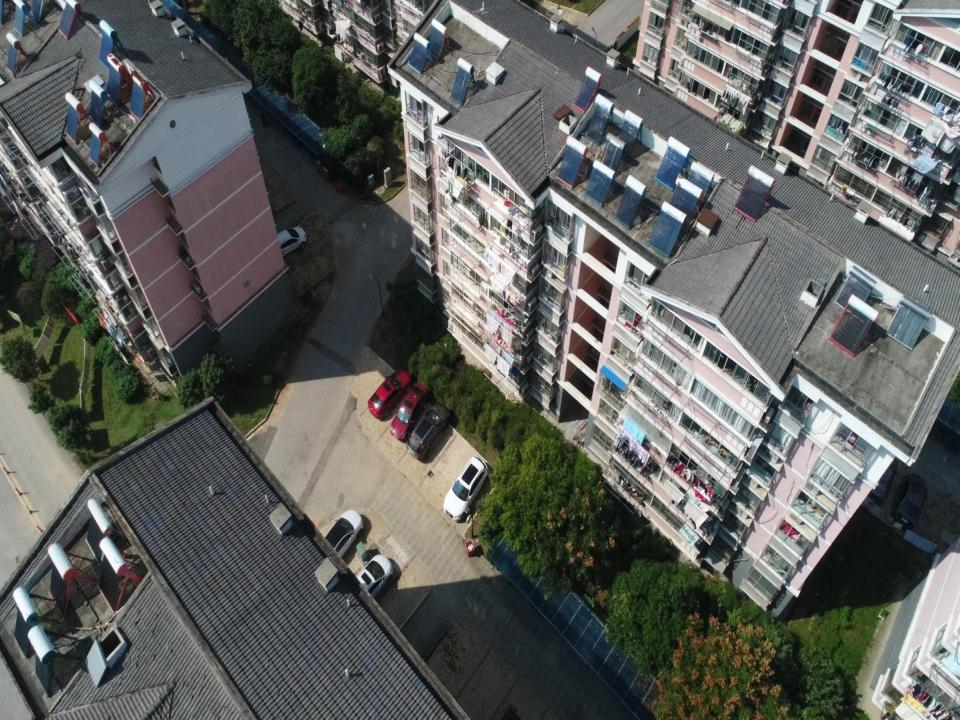car: (443, 456, 489, 521), (316, 510, 363, 570), (347, 554, 393, 614), (405, 401, 450, 461), (890, 471, 930, 533), (390, 382, 428, 441), (368, 368, 411, 419), (866, 450, 900, 506), (268, 226, 307, 262)
